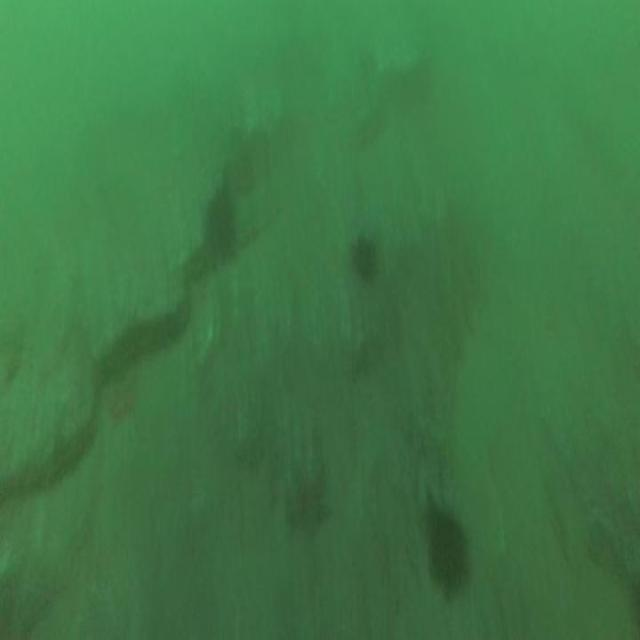echinus: (428, 509, 466, 596), (203, 194, 236, 266), (354, 237, 376, 281)
starfish: (287, 458, 331, 540)
